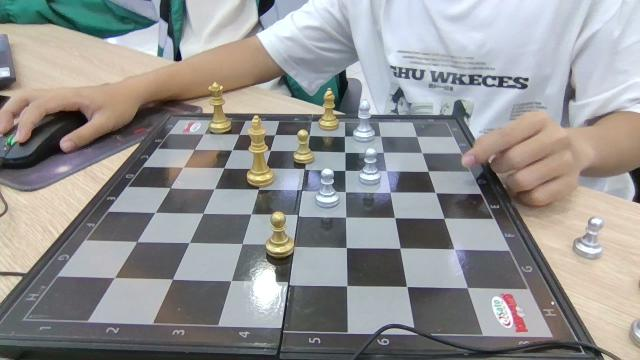black_bishop: (318, 88, 342, 132)
black_king: (245, 116, 275, 186)
black_pawn: (265, 212, 296, 258), (292, 129, 314, 165)
black_queen: (206, 83, 234, 135)
white_bishop: (353, 98, 377, 143)
white_pawn: (573, 217, 606, 260), (316, 168, 340, 209), (359, 148, 383, 186)
